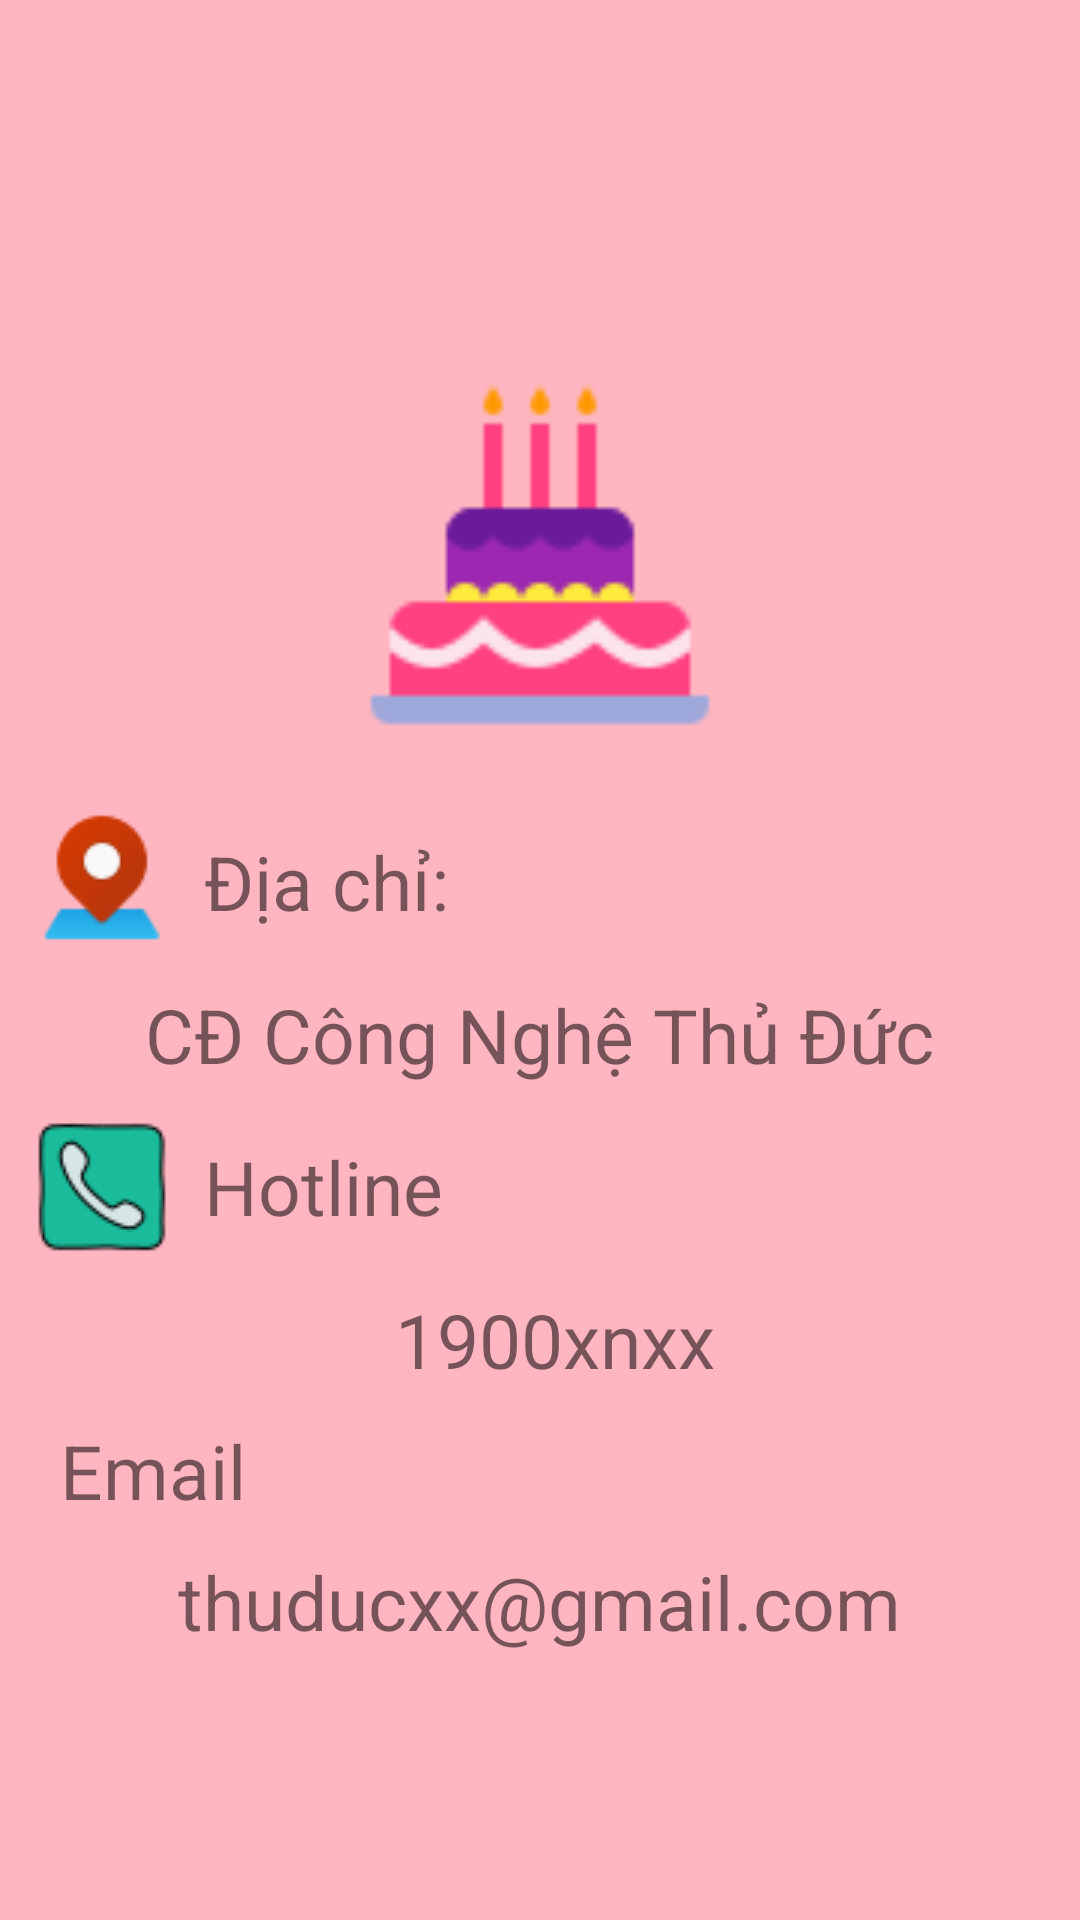

Icon click points for this 1080px×1920px phone screenshot, format point (x, y):
address: point (102, 877)
cake: point (540, 555)
